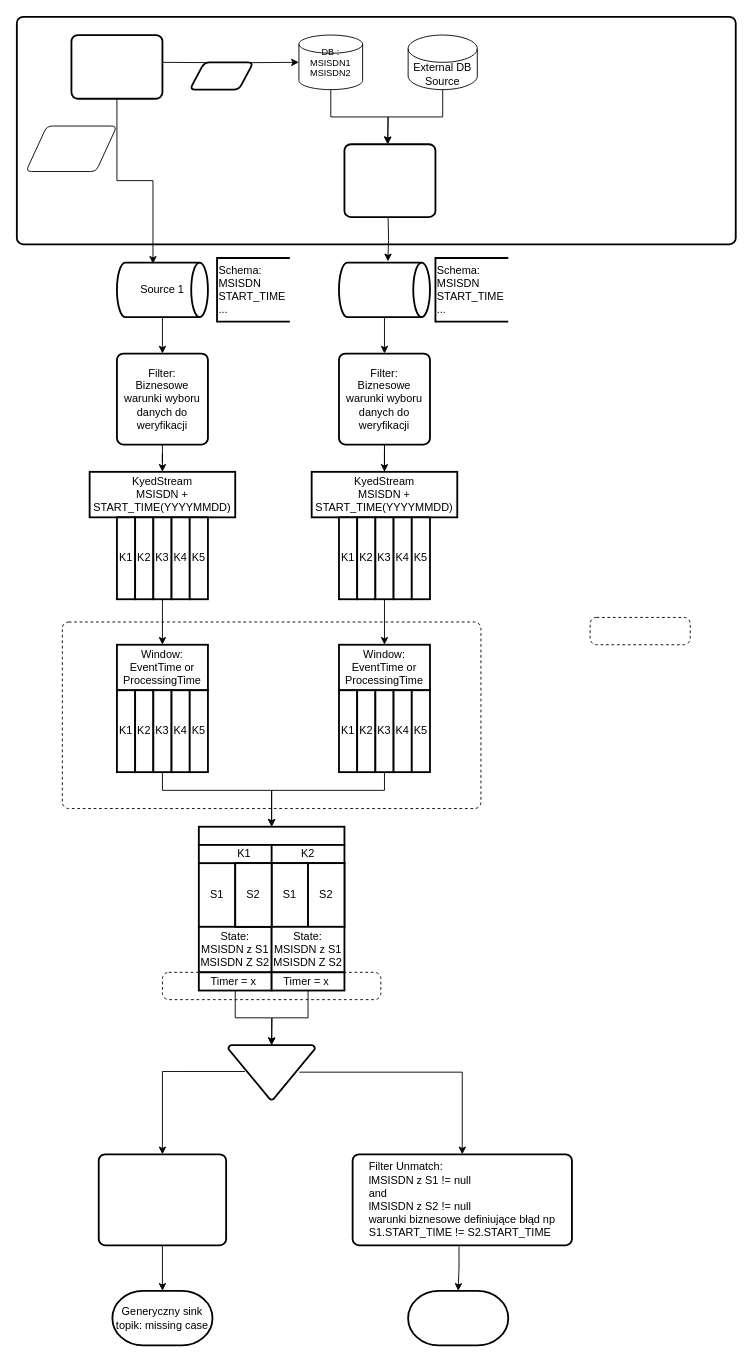
This 752x1361 diagram has some shape labels left out. Here are the shapes that lost their labels. From the top down, the centre of each, then its label:
(x=116, y=66): NiFi
(x=221, y=75): MSISDN
(x=71, y=148): Event: MSISDN START_TIME
(x=389, y=180): Wybór danych na podstawie zebranych MSISDNow
(x=384, y=289): Source 2
(x=639, y=631): alternatywe rozwiązanie
(x=271, y=835): Connected streams
(x=271, y=1072): split
(x=162, y=1199): Filter Missing: lMSISDN z S1 = null or lMSISDN z S2 = null
(x=458, y=1317): Generyczny sink topik: unmatch case
